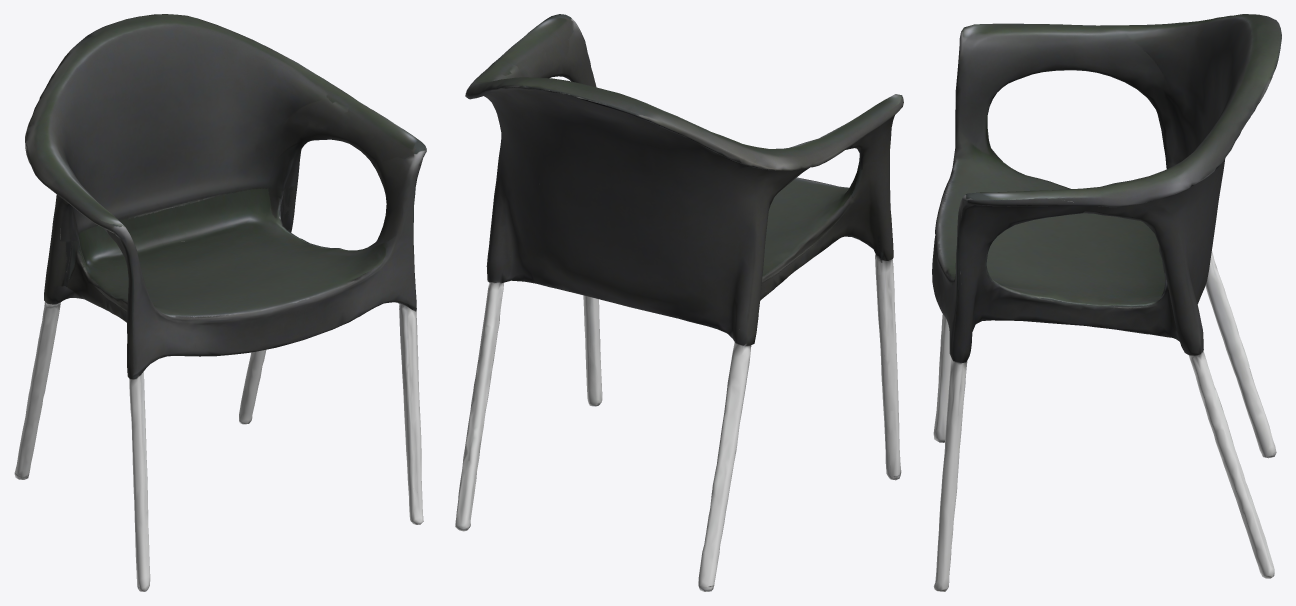
Rendered from Modern_Elegance_Chair_0421140550_texture.glb.
The picture shows the model from 3 angles, left to right: view 1: azimuth 30°, elevation 25°; view 2: azimuth 150°, elevation 25°; view 3: azimuth 270°, elevation 25°; orthographic projection. The views are drawn at different scales.
Size of the model in its own units: 1.59 by 2.01 by 1.32.
1 material, 1 textured.
